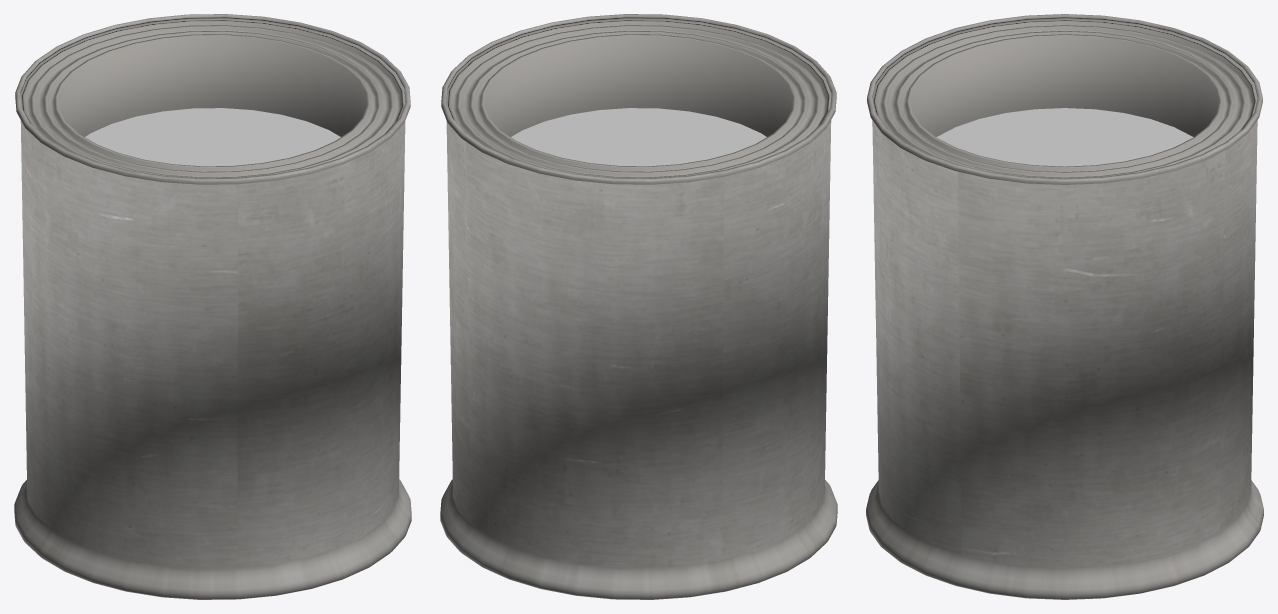
File: bucket.fbx
The picture shows the model from 3 angles, left to right: view 1: azimuth 30°, elevation 25°; view 2: azimuth 150°, elevation 25°; view 3: azimuth 270°, elevation 25°; orthographic projection.
Visible parts, largest first — view 1: Cylinder, Circle; view 2: Cylinder, Circle; view 3: Cylinder, Circle.
Boxes of the visible parts, x1,y1,x2,y2 form: Cylinder: [14, 14, 411, 599]; Circle: [85, 108, 340, 166]; Cylinder: [440, 14, 837, 599]; Circle: [511, 108, 766, 166]; Cylinder: [866, 14, 1263, 599]; Circle: [936, 108, 1193, 166].
Size of the model in its own units: 11.92 by 13.87 by 11.92.
